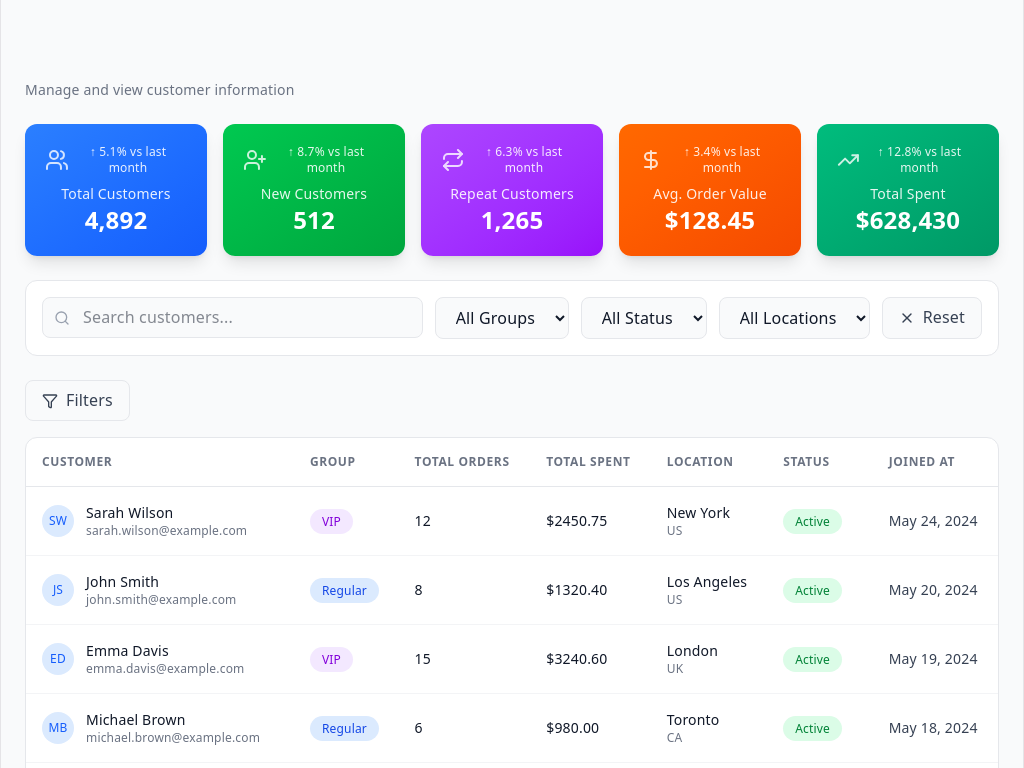
Customers › should reset filters when reset button is clicked
This screenshot has width=1024, height=768.
Expected: the text "Sarah Wilson" is shown, [86, 503, 173, 522]
Type "Sarah" into the field with placeholder "Search customers..." at (232, 318), box [42, 297, 423, 338]
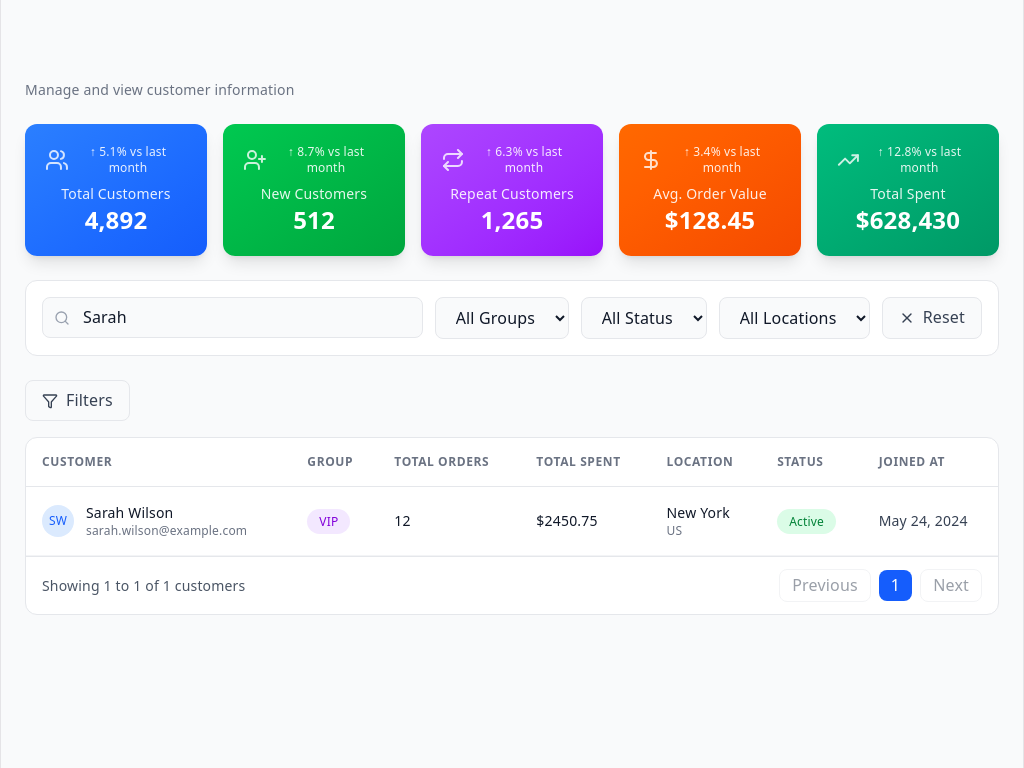
Click the button "Reset" at (932, 318), box [882, 297, 982, 339]
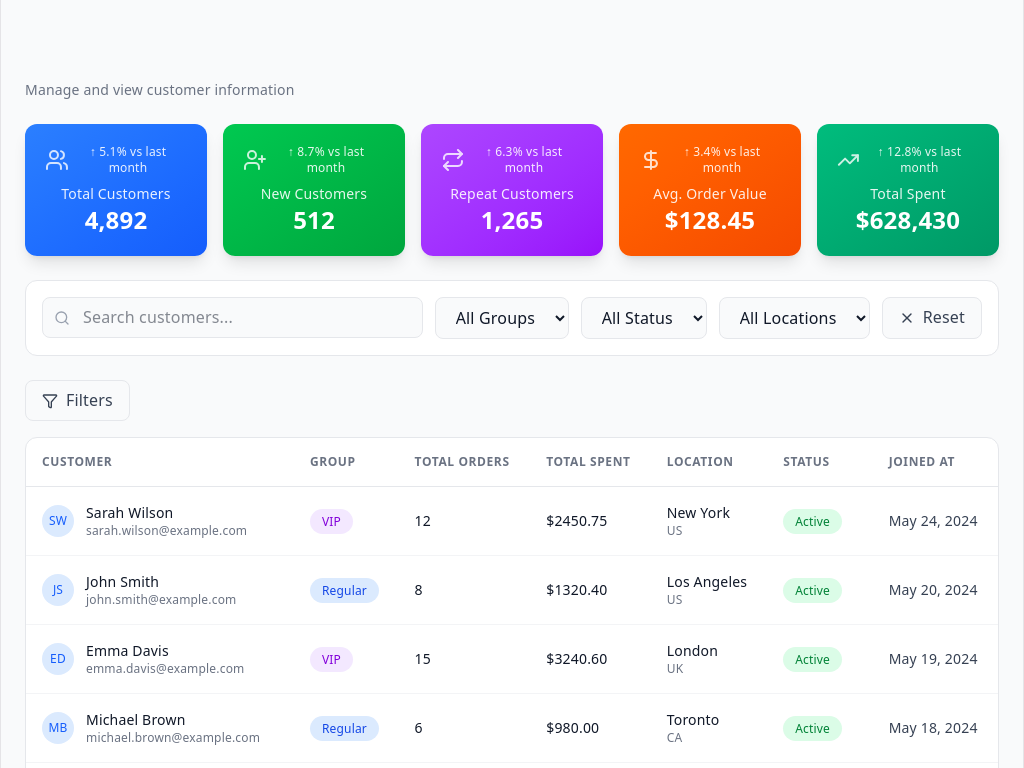
Expected: the field with placeholder "Search customers..." is empty, [42, 297, 423, 338]
